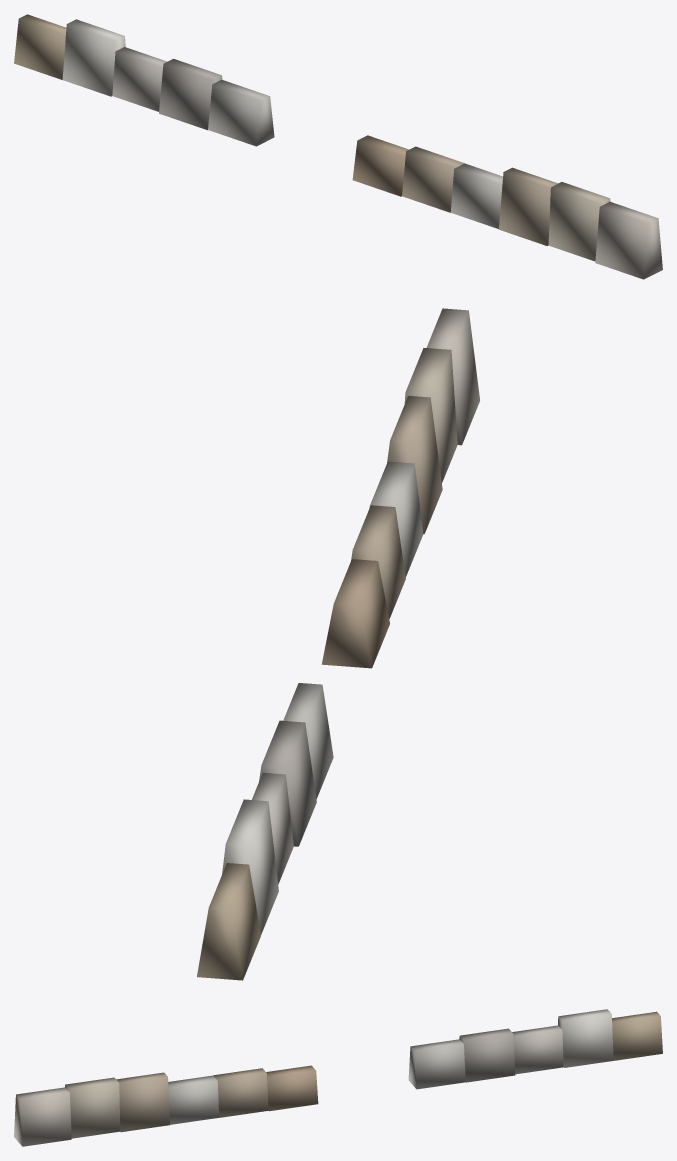
File: farm_-24_-24_collision.glb
3 views of the same model, one above another, from view 1: azimuth 30°, elevation 25°; view 2: azimuth 150°, elevation 25°; view 3: azimuth 270°, elevation 25° (orthographic). The views are drawn at different scales.
Visible parts, largest first — view 1: geometry_0; view 2: geometry_0; view 3: geometry_0.
Part boxes in pixels (box(x1,y1,x2,y2)): geometry_0: box(14, 14, 662, 279); geometry_0: box(197, 308, 479, 980); geometry_0: box(14, 1009, 662, 1146).
Size of the model in its own units: 7.46 by 1.7 by 18.88.
